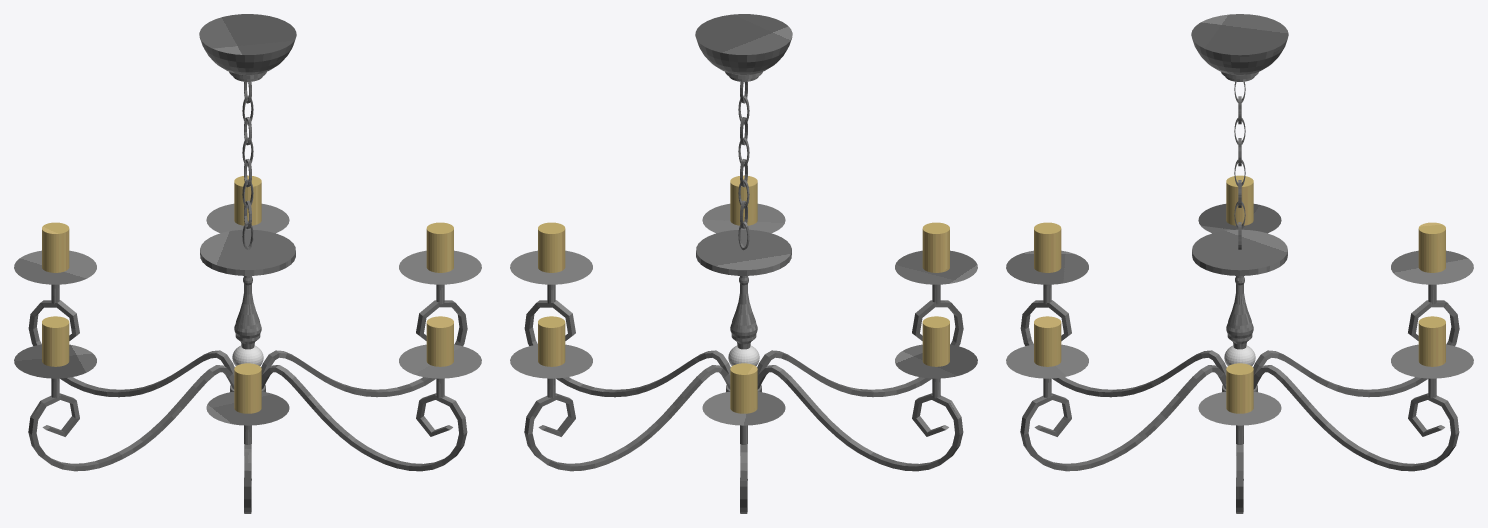
The model's file is iron_chandelier.obj.
3 views of the same model, side by side, from view 1: azimuth 30°, elevation 25°; view 2: azimuth 150°, elevation 25°; view 3: azimuth 270°, elevation 25° (orthographic).
Parts seen in each view (by area): view 1: Circle.001; view 2: Circle.001; view 3: Circle.001.
Part boxes in pixels (box(x1,y1,x2,y2)): Circle.001: box(14, 14, 481, 513); Circle.001: box(510, 14, 977, 513); Circle.001: box(1006, 14, 1473, 513).
Size of the model in its own units: 3.58 by 2.96 by 3.17.
